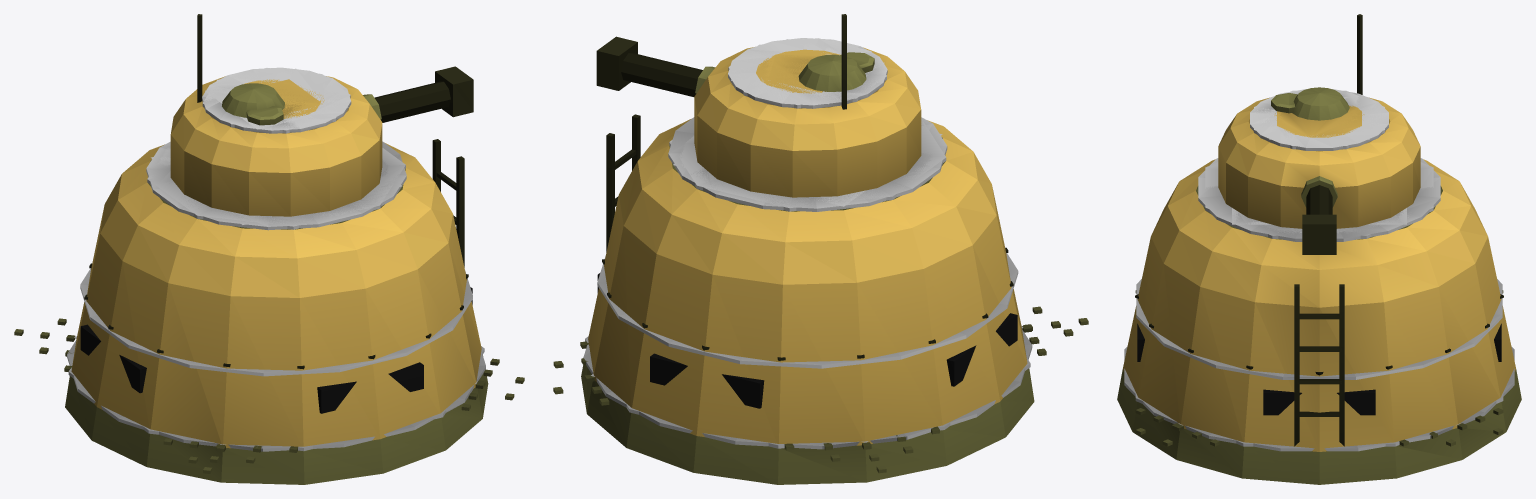
File: meridian_defence_tower.glb
3 views of the same model, side by side, from view 1: azimuth 30°, elevation 25°; view 2: azimuth 150°, elevation 25°; view 3: azimuth 270°, elevation 25° (orthographic). The views are drawn at different scales.
Visible parts, largest first — view 1: body (×2), turret (×3), barrel; view 2: body (×2), turret (×3), barrel; view 3: body (×3), turret (×2), barrel.
Part boxes in pixels (x1,y1,x2,y2): body (×2): (14, 139, 524, 484); turret (×3): (170, 14, 382, 216); barrel: (363, 66, 473, 122); body (×2): (553, 114, 1088, 484); turret (×3): (694, 14, 921, 197); barrel: (596, 36, 715, 96); body (×3): (1117, 158, 1521, 484); turret (×2): (1218, 14, 1420, 228); barrel: (1301, 176, 1337, 254).
Bounding box in the file's own units: 3.63 × 3.52 × 3.6.
